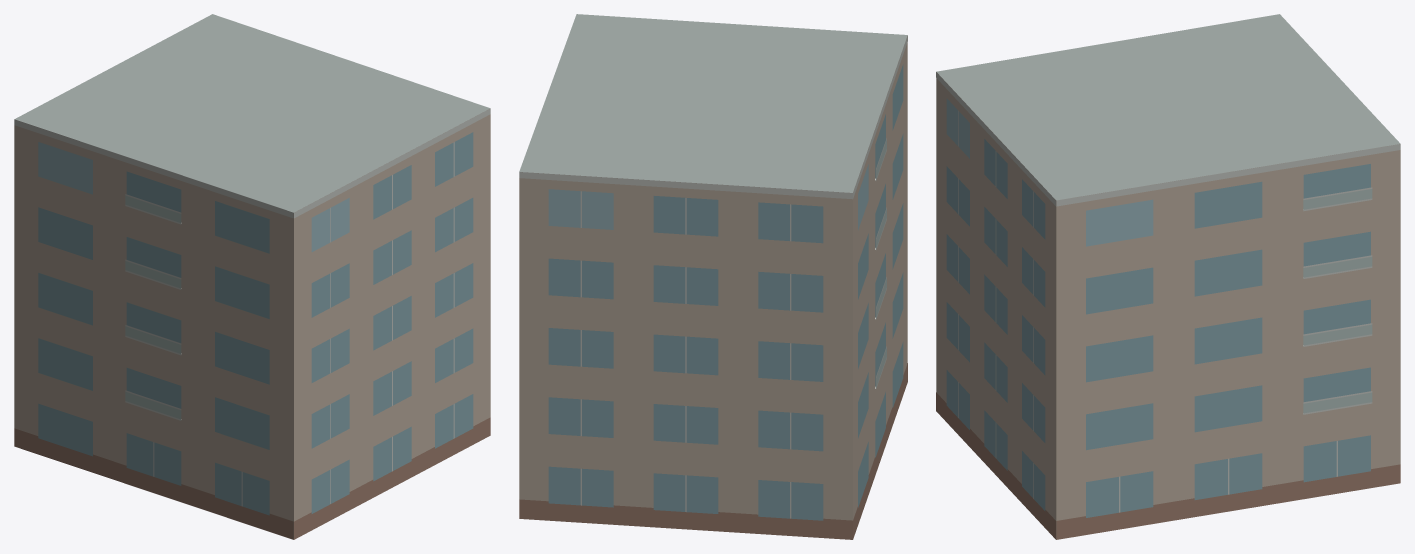
The model's file is survey-upis-32592894.glb.
The picture shows the model from 3 angles, left to right: view 1: azimuth 30°, elevation 25°; view 2: azimuth 150°, elevation 25°; view 3: azimuth 270°, elevation 25°; orthographic projection. The views are drawn at different scales.
Parts seen in each view (by area): view 1: survey-upis-32592894.tmp; view 2: survey-upis-32592894.tmp; view 3: survey-upis-32592894.tmp.
Boxes of the visible parts, x1=… form: survey-upis-32592894.tmp: x1=14, y1=14, x2=490, y2=539; survey-upis-32592894.tmp: x1=519, y1=14, x2=907, y2=539; survey-upis-32592894.tmp: x1=936, y1=14, x2=1400, y2=539.
Bounding box in the file's own units: 16.04 × 13.6 × 16.88.
